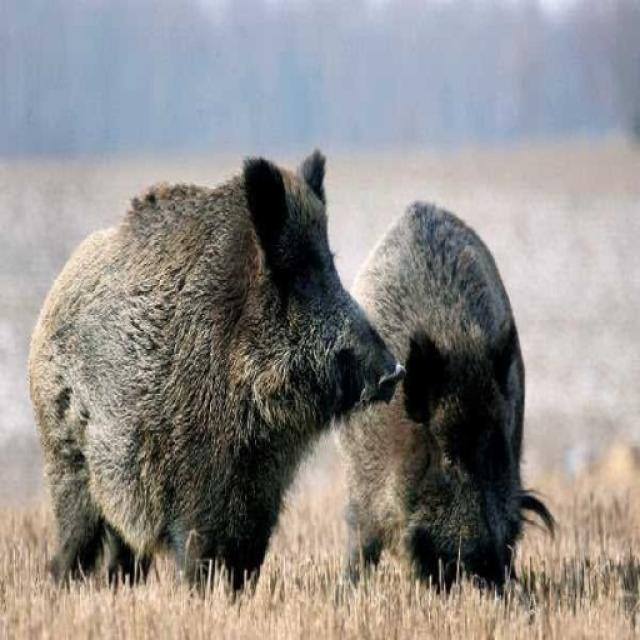pig: (34, 130, 397, 627), (349, 209, 584, 612)
